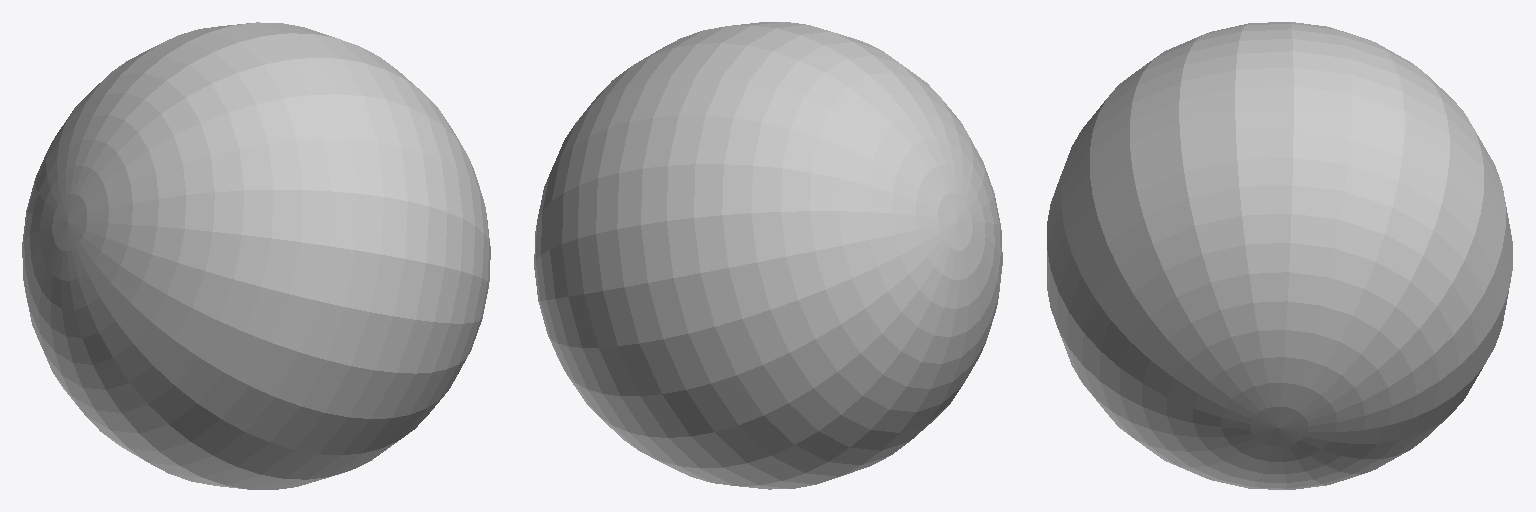
Rendered from CubeWITHAnim0013.obj.
3 renders of one model, left to right at view 1: azimuth 30°, elevation 25°; view 2: azimuth 150°, elevation 25°; view 3: azimuth 270°, elevation 25°, orthographic.
Visible parts, largest first — view 1: NEWJumpBall_Sphere; view 2: NEWJumpBall_Sphere; view 3: NEWJumpBall_Sphere.
Boxes of the visible parts, box(x1,y1,x2,y2) form: NEWJumpBall_Sphere: box(22, 22, 490, 489); NEWJumpBall_Sphere: box(534, 22, 1002, 489); NEWJumpBall_Sphere: box(1047, 22, 1512, 489).
Size of the model in its own units: 2 by 1.99 by 1.99.